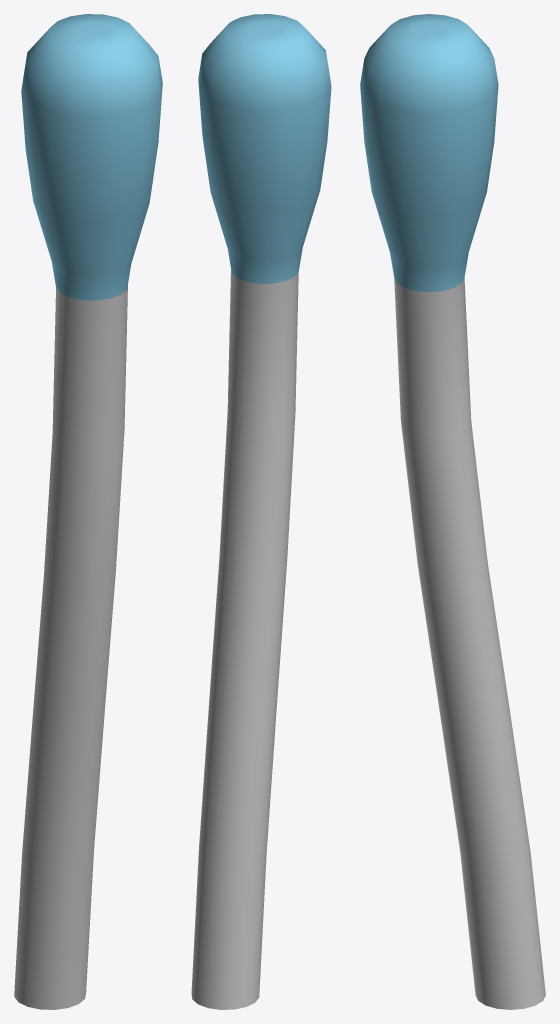
File: Mod_Palo.fbx
3 renders of one model, left to right at view 1: azimuth 30°, elevation 25°; view 2: azimuth 150°, elevation 25°; view 3: azimuth 270°, elevation 25°, orthographic. The views are drawn at different scales.
Parts seen in each view (by area): view 1: Cylinder.004; view 2: Cylinder.004; view 3: Cylinder.004.
Part boxes in pixels (box(x1,y1,x2,y2)): Cylinder.004: box(14, 14, 162, 1009); Cylinder.004: box(191, 14, 331, 1009); Cylinder.004: box(360, 14, 545, 1009).
Bounding box in the file's own units: 47.16 × 363 × 63.28.
